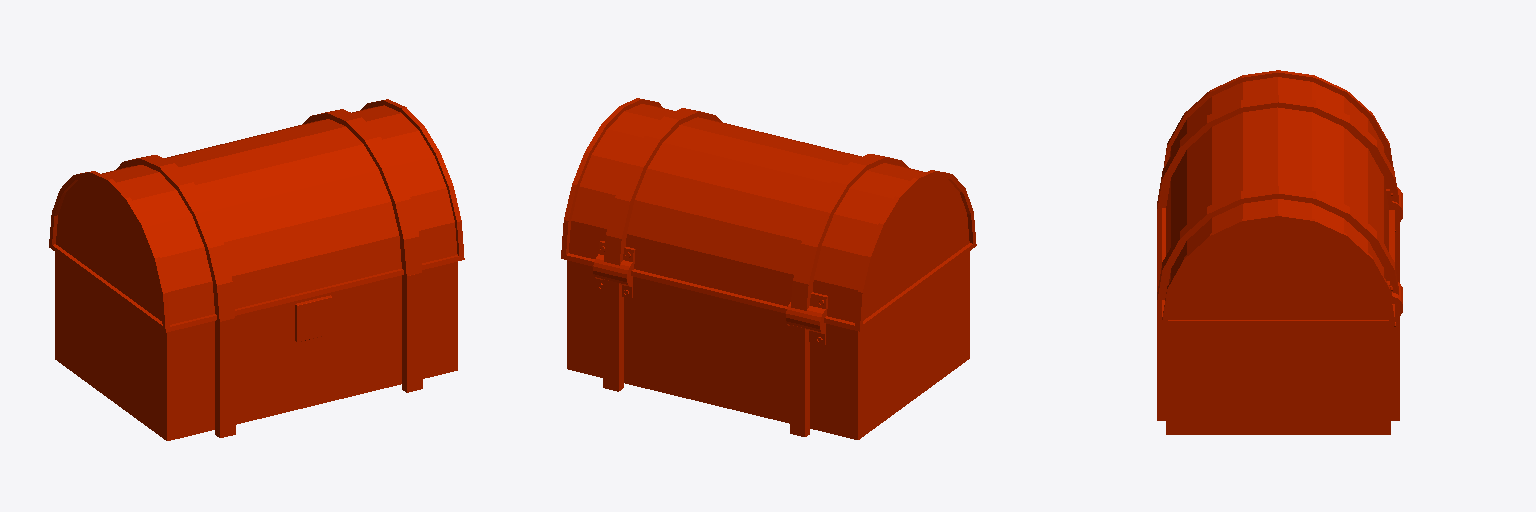
Rendered from treasure_2.obj.
The picture shows the model from 3 angles: view 1: azimuth 30°, elevation 25°; view 2: azimuth 150°, elevation 25°; view 3: azimuth 270°, elevation 25°; orthographic projection.
Visible parts, largest first — view 1: polySurface21, polySurface35, polySurface24, pasted__kanagu, kanagu, polySurface44, pasted__polySurface44, key; view 2: polySurface21, polySurface35, polySurface24, kanagu, pasted__kanagu, polySurface44, pasted__polySurface44, polySurface28, polySurface25; view 3: polySurface21, polySurface35, polySurface24, pasted__kanagu, kanagu, polySurface44, pasted__polySurface44.
Boxes of the visible parts, box(x1,y1,x2,y2) form: polySurface21: box(56, 105, 457, 324); polySurface35: box(55, 252, 457, 440); polySurface24: box(49, 99, 464, 332); pasted__kanagu: box(116, 155, 234, 321); kanagu: box(303, 109, 421, 275); polySurface44: box(402, 273, 422, 392); pasted__polySurface44: box(215, 318, 235, 437); key: box(295, 295, 332, 341); polySurface21: box(569, 104, 969, 322); polySurface35: box(567, 251, 969, 439); polySurface24: box(561, 98, 976, 331); kanagu: box(604, 108, 721, 265); pasted__kanagu: box(791, 154, 908, 310); polySurface44: box(603, 279, 623, 391); pasted__polySurface44: box(790, 325, 809, 436); polySurface28: box(786, 292, 827, 325); polySurface25: box(593, 241, 635, 278); polySurface21: box(1166, 77, 1388, 319); polySurface35: box(1166, 326, 1390, 434); polySurface24: box(1162, 70, 1394, 325); pasted__kanagu: box(1157, 95, 1398, 212); kanagu: box(1157, 186, 1398, 303); polySurface44: box(1157, 304, 1399, 420); pasted__polySurface44: box(1157, 213, 1399, 291).
Size of the model in its own units: 6.2 by 4.5 by 4.43.